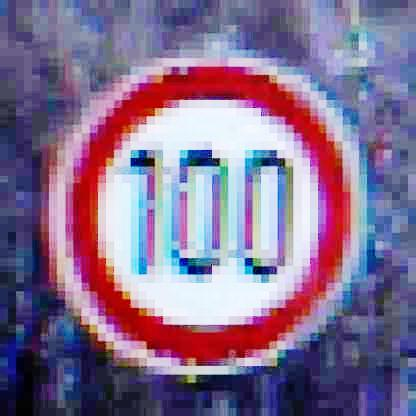Speed Limit -100-: (50, 54, 362, 378)
